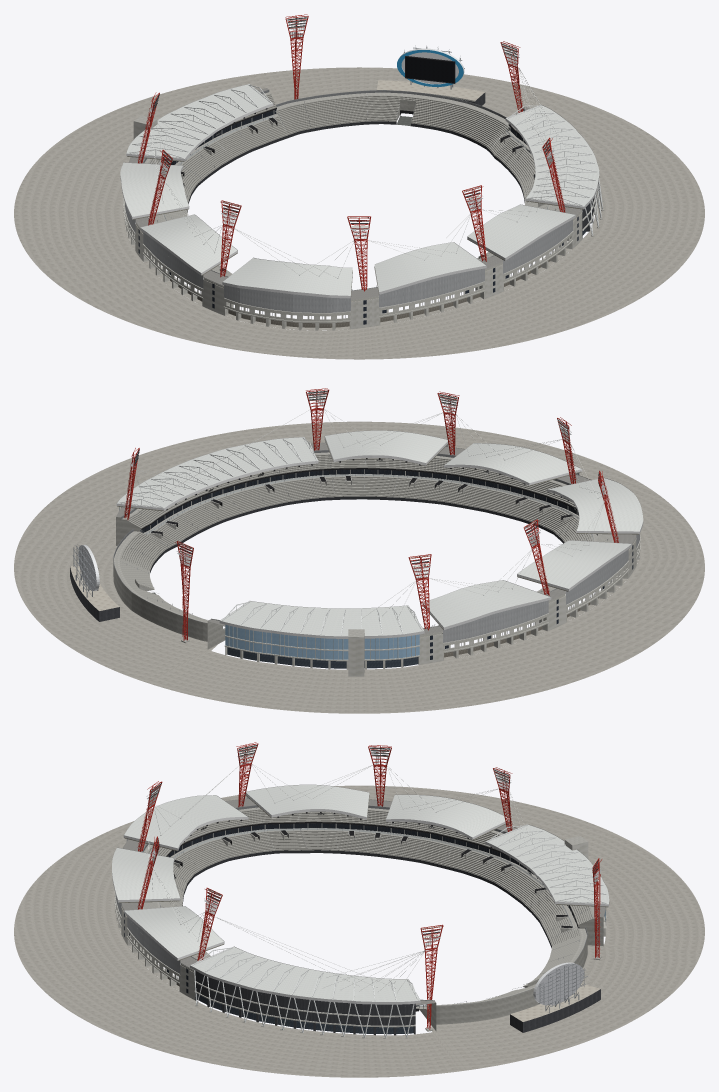
File: engie.glb
3 views of the same model, one above another, from view 1: azimuth 30°, elevation 25°; view 2: azimuth 150°, elevation 25°; view 3: azimuth 270°, elevation 25° (orthographic).
Visible parts, largest first — view 1: apron, roofs, facades, bowl, light_towers, scoreboard; view 2: apron, roofs, bowl, facades, light_towers, scoreboard, suites, vomitories; view 3: apron, roofs, bowl, facades, light_towers, scoreboard, suites, vomitories.
Boxes of the visible parts, x1,y1,x2,y2 form: apron: (14,67,704,359); roofs: (120,67,599,298); facades: (123,115,604,330); bowl: (128,88,582,300); light_towers: (138,14,565,291); scoreboard: (376,45,485,105); apron: (14,421,704,713); roofs: (116,409,643,638); bowl: (113,443,636,649); facades: (119,442,640,676); light_towers: (124,388,618,642); scoreboard: (70,544,119,621); suites: (141,469,597,541); vomitories: (150,474,573,633); apron: (14,785,704,1077); roofs: (112,764,609,1004); bowl: (121,799,605,1030); facades: (114,797,606,1038); light_towers: (137,742,601,1031); scoreboard: (510,962,600,1032); suites: (159,823,578,1008); vomitories: (173,829,572,1011).
Bounding box in the file's own units: 300 × 46.17 × 300.
45 materials, 45 textured.
